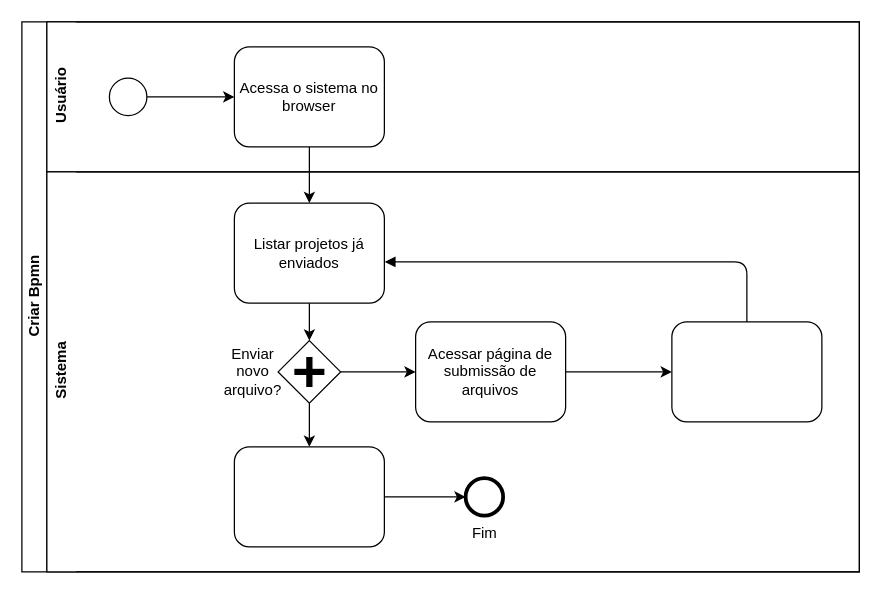
Image size: 881x594. Some labels were removed from this diagram. Each missing label, with the centre of its shape:
Início: point (127, 96)
Submeter arquivo: point (746, 371)
Visualização e manipulação do BPMN resultante: point (308, 496)
